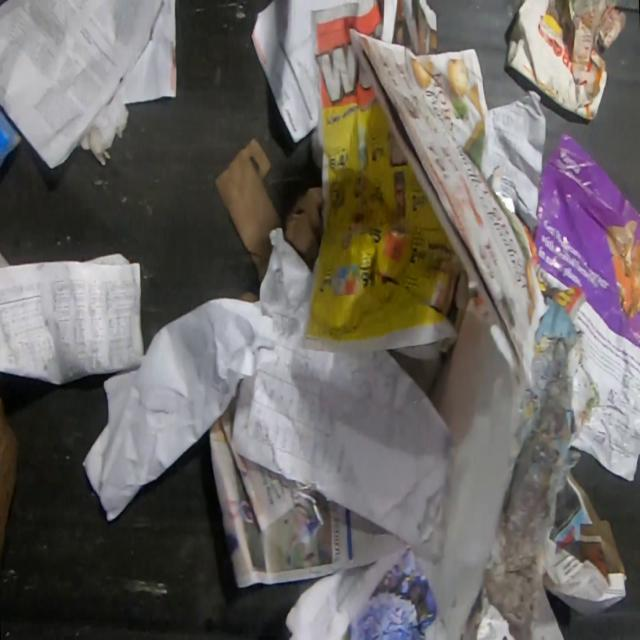cardboard: (216, 134, 322, 287), (502, 0, 608, 123), (1, 395, 17, 549)
